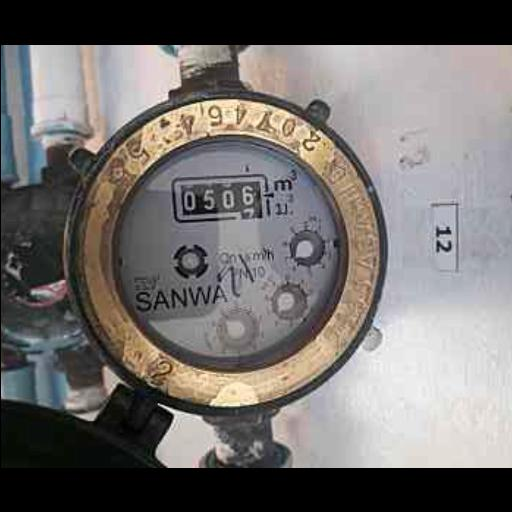0: (217, 182, 240, 213), (180, 184, 200, 215)
5: (198, 182, 219, 214)
6: (239, 180, 262, 219)
border_water_meter_number: (170, 171, 271, 223)
